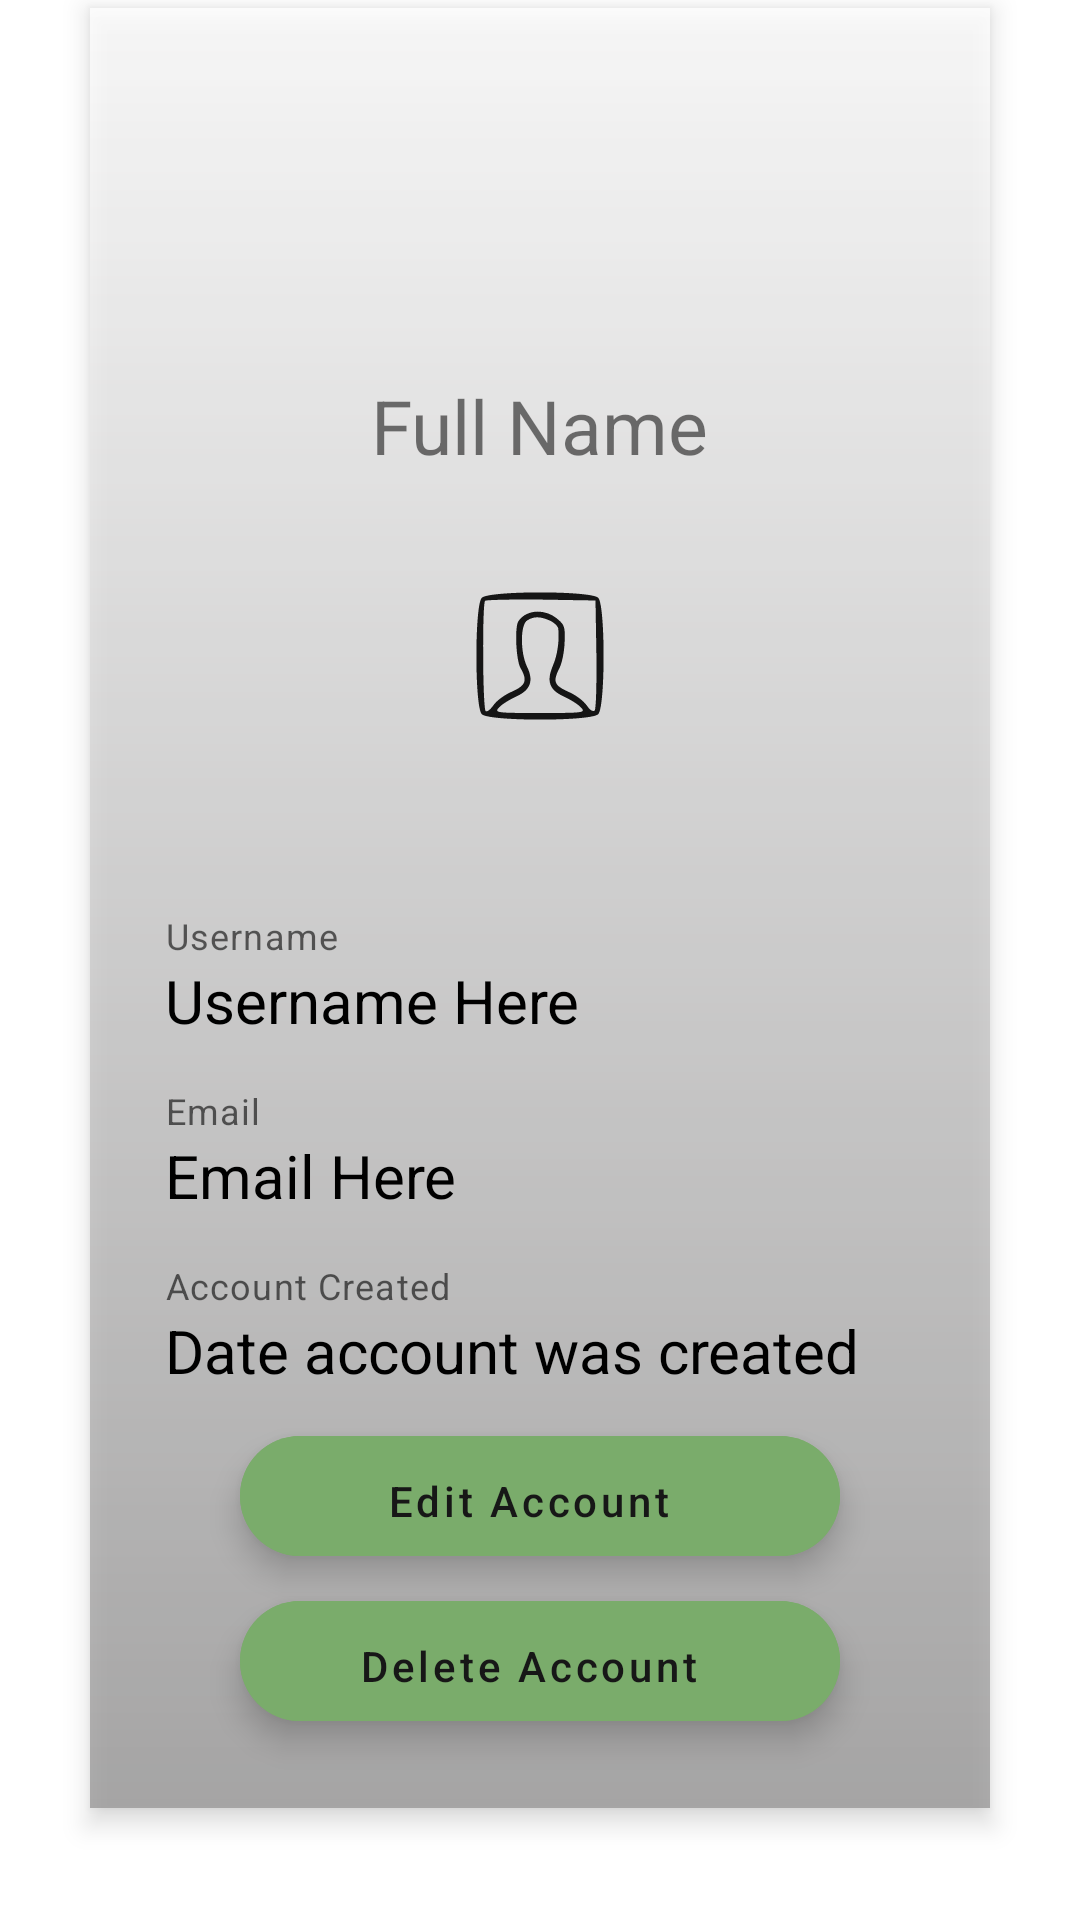

Named icons in this screenshot (1080px x 1920px) and their centers, (x=x, y=y):
user profile menu: (x=540, y=656)
